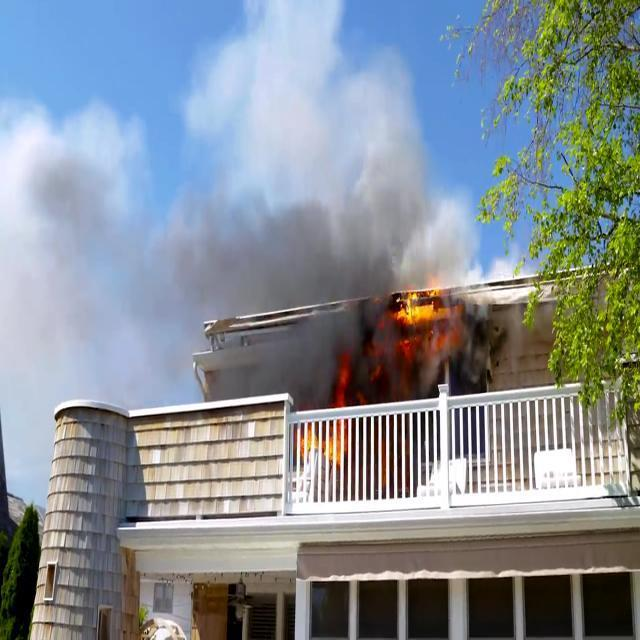Fire: (378, 284, 450, 362)
Smoke: (148, 110, 540, 428)
